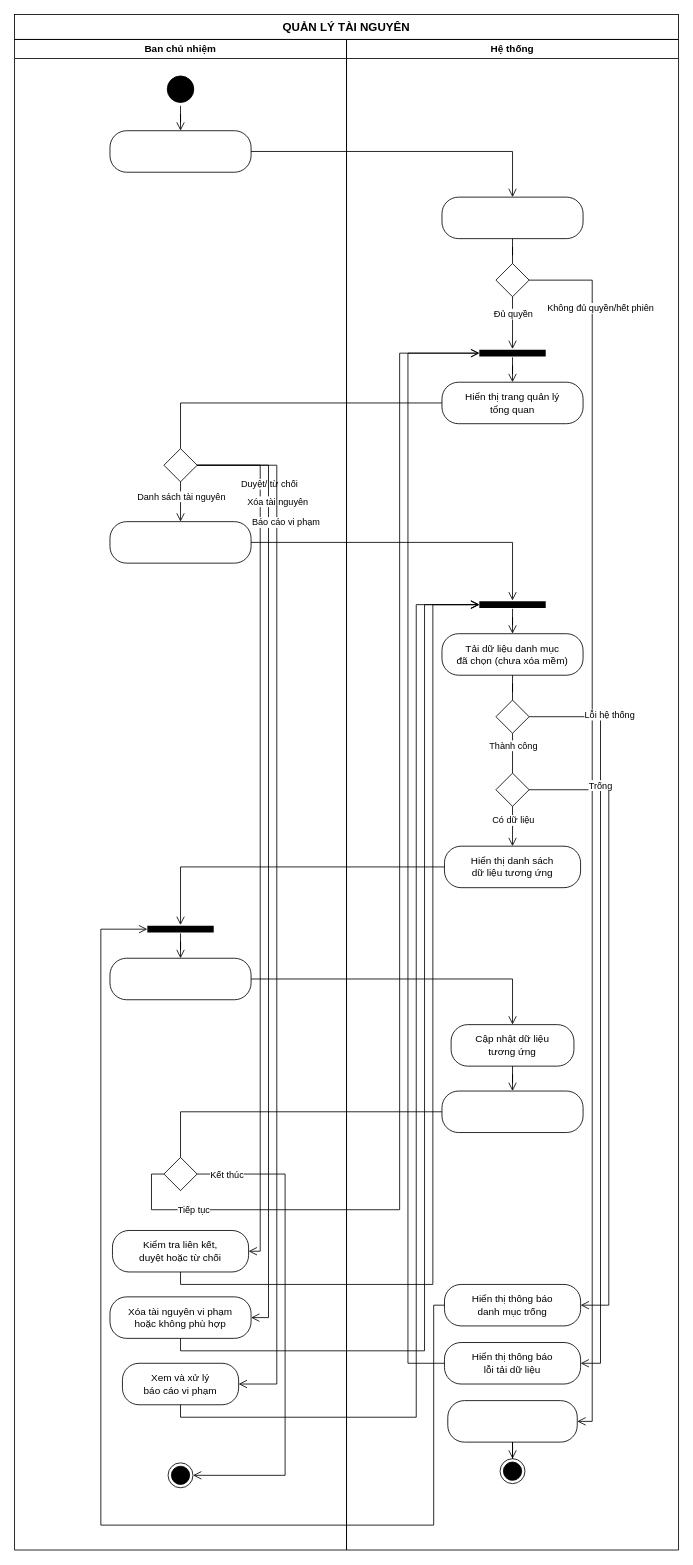
The diagram is 693 pixels wide and 1565 high, and some of its shapes have lost their labels. Here are the shapes that lost their labels. From the top down, the centre of each, then its label:
pixel 180 151: Truy cập màn hình "Quản lý tài nguyên"
pixel 512 217: Kiểm tra phiên đăng nhập và quyền quản lý
pixel 180 542: Xem, tìm kiếm, lọc danh sách tài nguyên
pixel 180 978: Thực hiện thao tác (xem/thêm/sửa/xóa/khác)
pixel 512 1111: Hiển thị thông báo cập nhật thành công
pixel 512 1421: Hiển thị lỗi 403, từ chối truy cập
